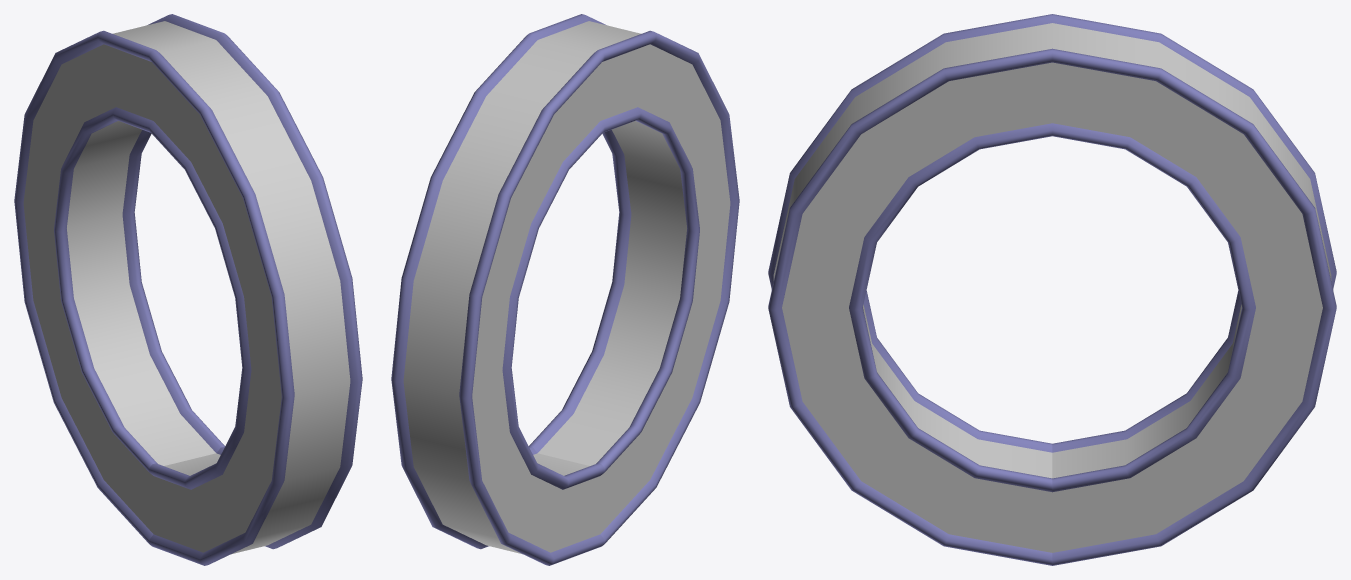
File: finishline.fbx
3 views of the same model, side by side, from view 1: azimuth 30°, elevation 25°; view 2: azimuth 150°, elevation 25°; view 3: azimuth 270°, elevation 25° (orthographic). The views are drawn at different scales.
Visible parts, largest first — view 1: Torus2_se2; view 2: Torus2_se2; view 3: Torus2_se2.
Part boxes in pixels (box(x1,y1,x2,y2)): Torus2_se2: box(14, 14, 362, 565); Torus2_se2: box(391, 14, 739, 565); Torus2_se2: box(768, 14, 1336, 565).
Size of the model in its own units: 0.3978 by 2.4 by 2.4.
